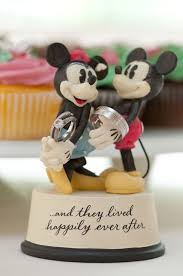Mickey: (41, 38, 112, 111)
